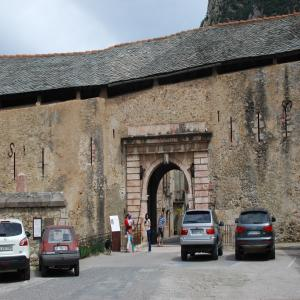Vehicle-registration-plate: (1, 245, 14, 252), (249, 231, 261, 236), (192, 231, 203, 236), (56, 247, 69, 251)
